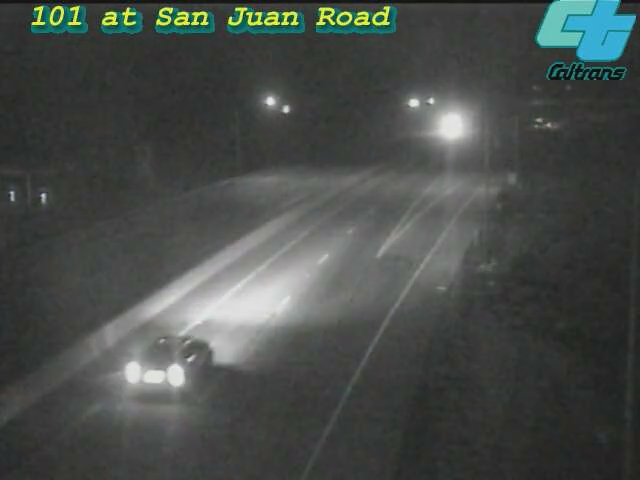vehicle: (112, 309, 222, 419), (425, 102, 475, 152), (516, 98, 566, 148)
